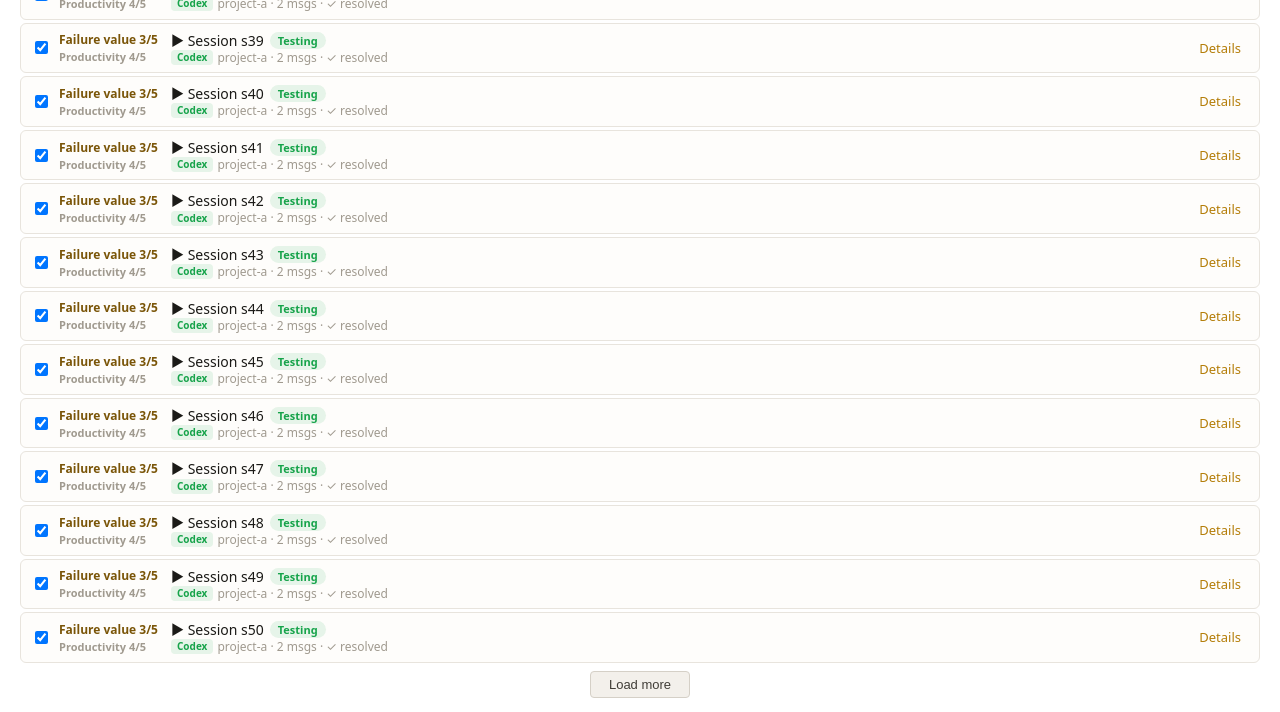
Test: Inbox bulk status updates › refills from the first page without reselecting a deliberately excluded row
(page scrolled)
Click the checkbox named "Select session: Session s50".
click(42, 637)  # box [35,631,48,644]
(page scrolled)
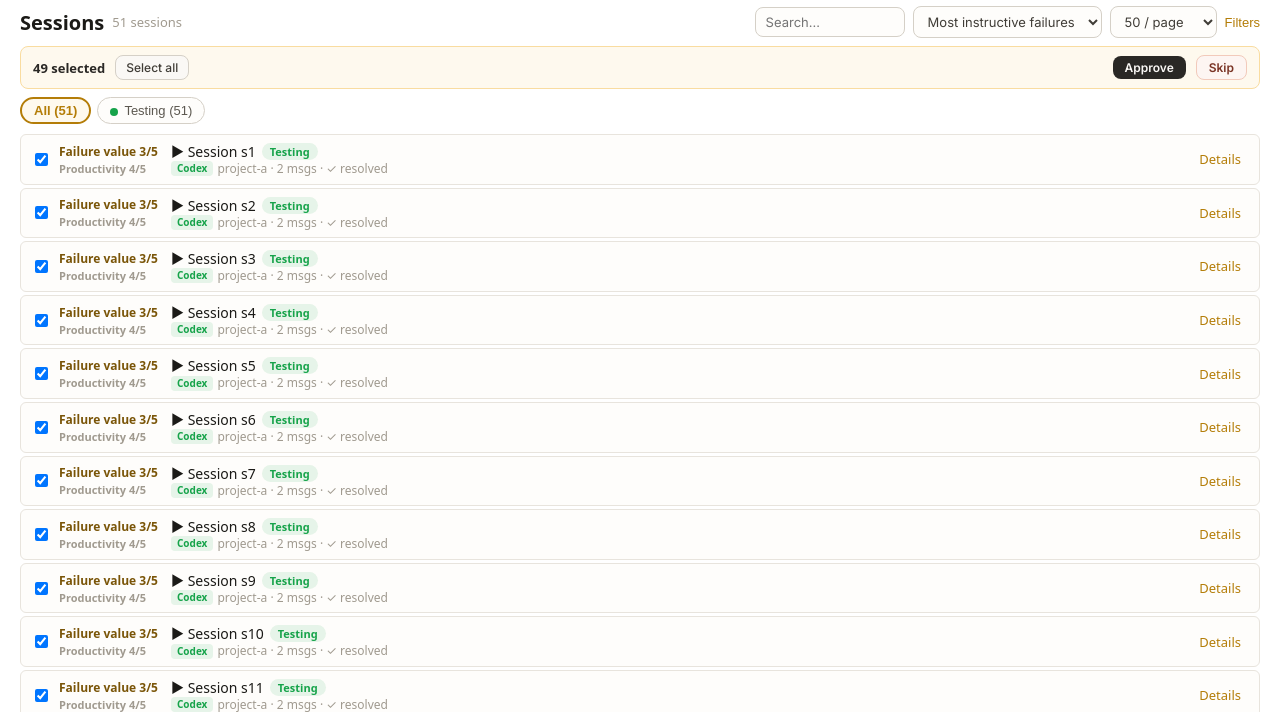
Check: the text "49 selected" is shown, box [33,58,105,76]
Click the button "Approve".
click(1149, 68)  # box [1112,56,1186,79]
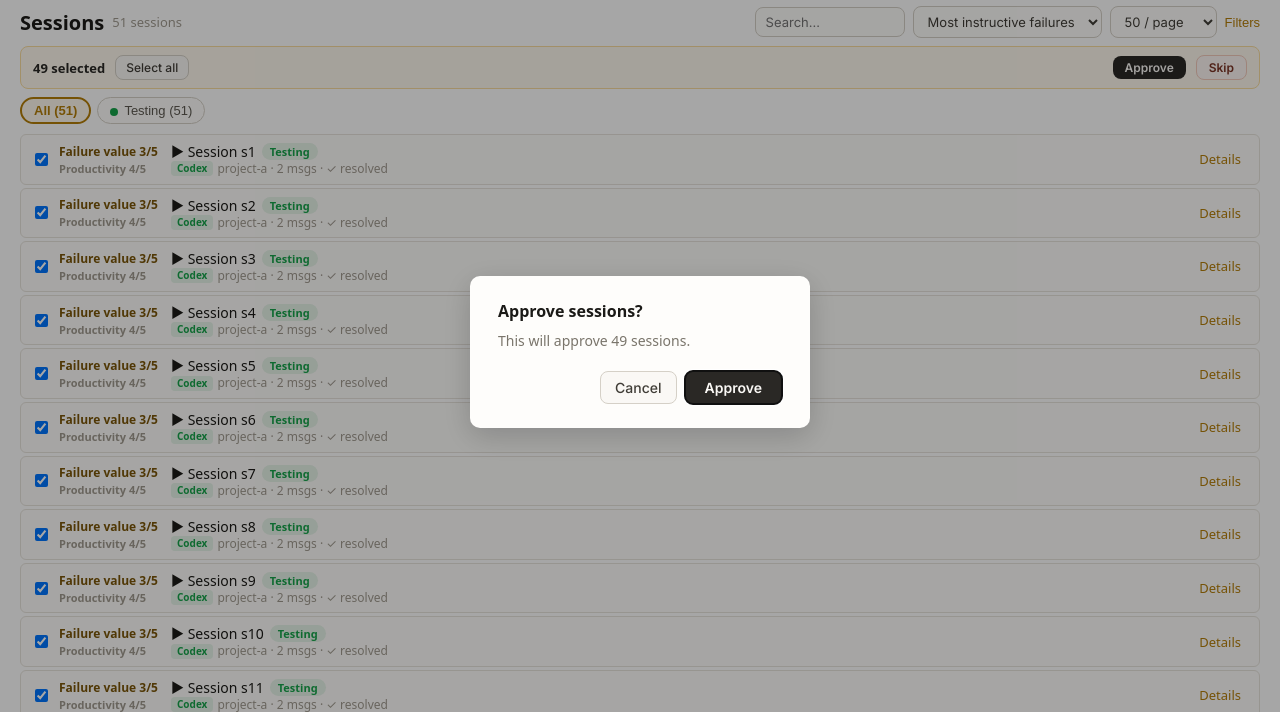
Click the button "Approve".
click(733, 388)  # box [685,371,782,404]
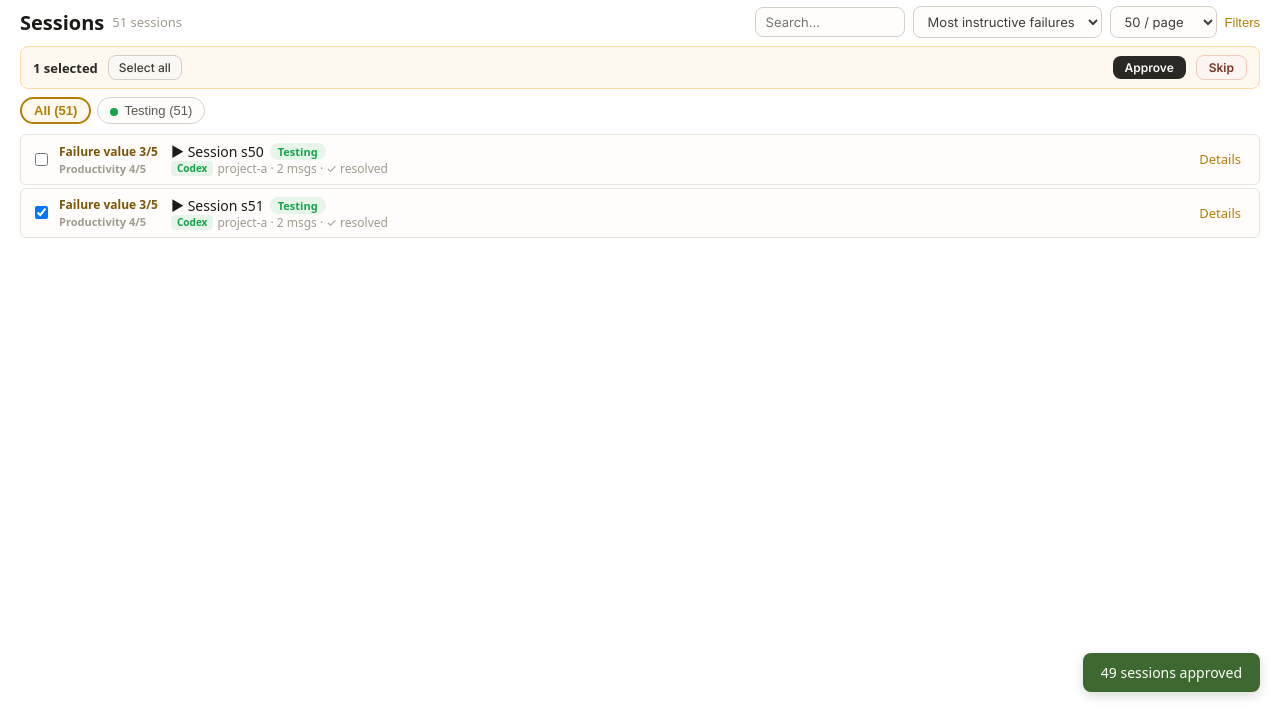
Check: the checkbox named "Select session: Session s51" is checked, box [35,206,48,219]
Check: the checkbox named "Select session: Session s50" is not checked, box [35,153,48,166]
Check: the text "1 selected" is shown, box [33,58,98,76]
